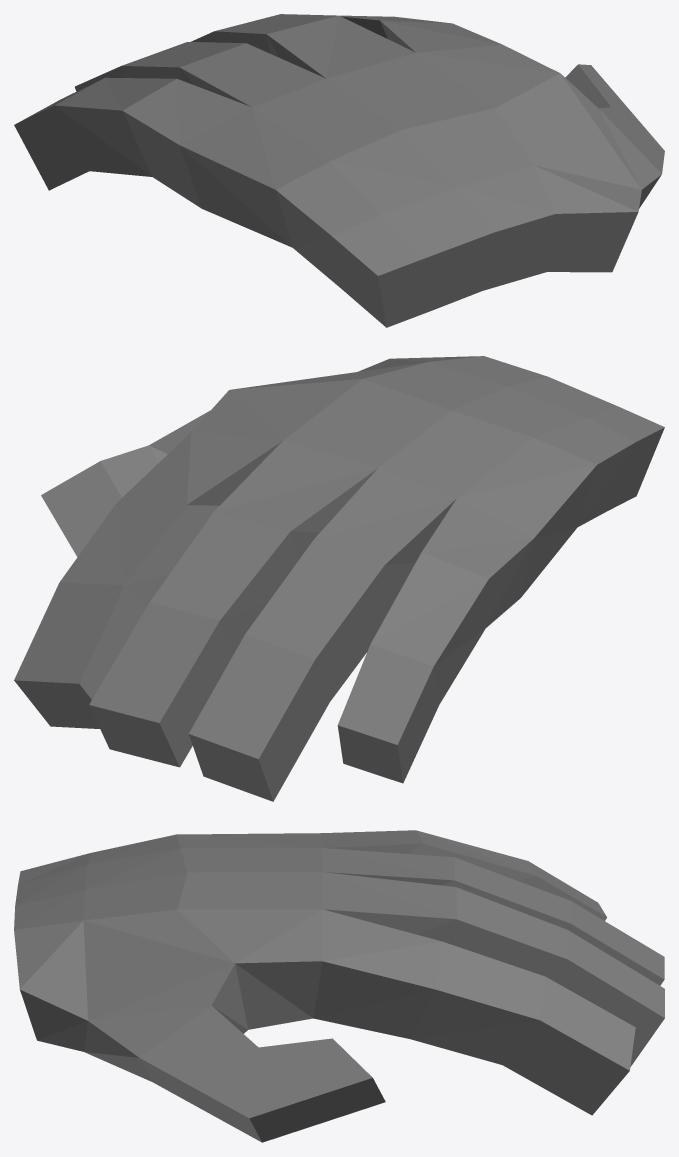
Rendered from Left_Hand.obj.
3 renders of one model, top to bottom at view 1: azimuth 30°, elevation 25°; view 2: azimuth 150°, elevation 25°; view 3: azimuth 270°, elevation 25°, orthographic. The views are drawn at different scales.
Parts seen in each view (by area): view 1: left_hand; view 2: left_hand; view 3: left_hand.
Boxes of the visible parts, <box> form: left_hand: <box>14,14,664,327</box>; left_hand: <box>14,356,664,801</box>; left_hand: <box>14,830,664,1142</box>.
Size of the model in its own units: 7.21 by 2.75 by 9.32.
Materials: 1 (1 with a texture image).
